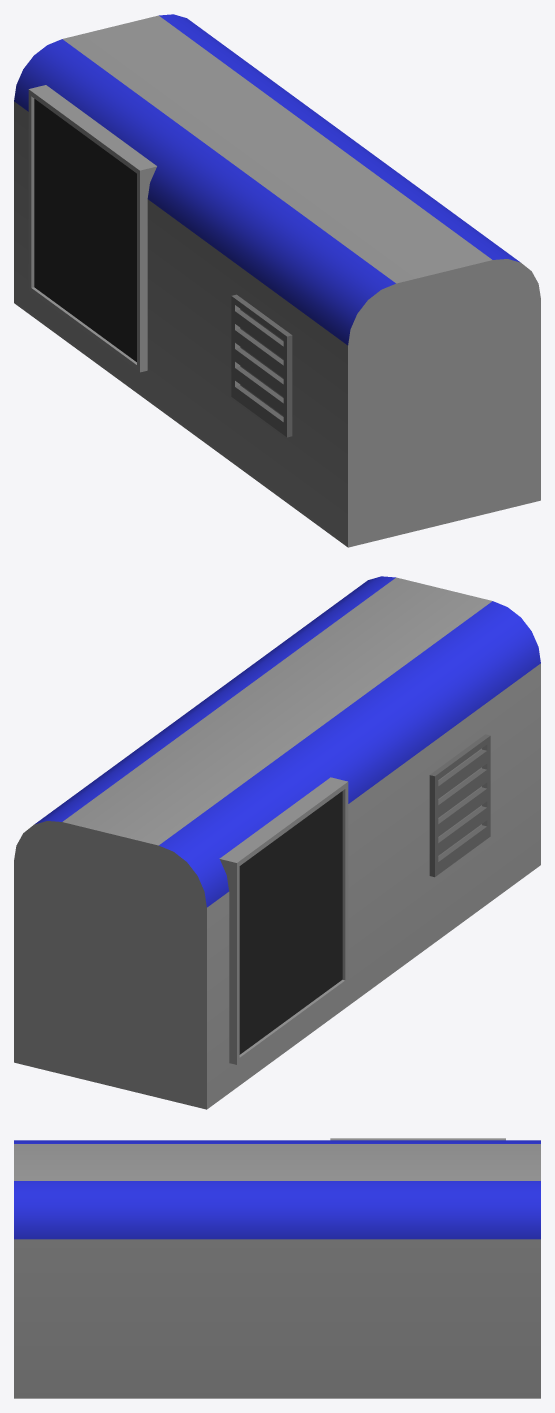
Rendered from transformator.fbx.
3 views of the same model, one above another, from view 1: azimuth 30°, elevation 25°; view 2: azimuth 150°, elevation 25°; view 3: azimuth 270°, elevation 25° (orthographic). The views are drawn at different scales.
Parts seen in each view (by area): view 1: Invertor; view 2: Invertor; view 3: Invertor.
Boxes of the visible parts, x1,y1,x2,y2 form: Invertor: [14, 14, 540, 547]; Invertor: [14, 576, 540, 1109]; Invertor: [14, 1138, 540, 1398].
Bounding box in the file's own units: 2.08 × 6 × 2.5.
